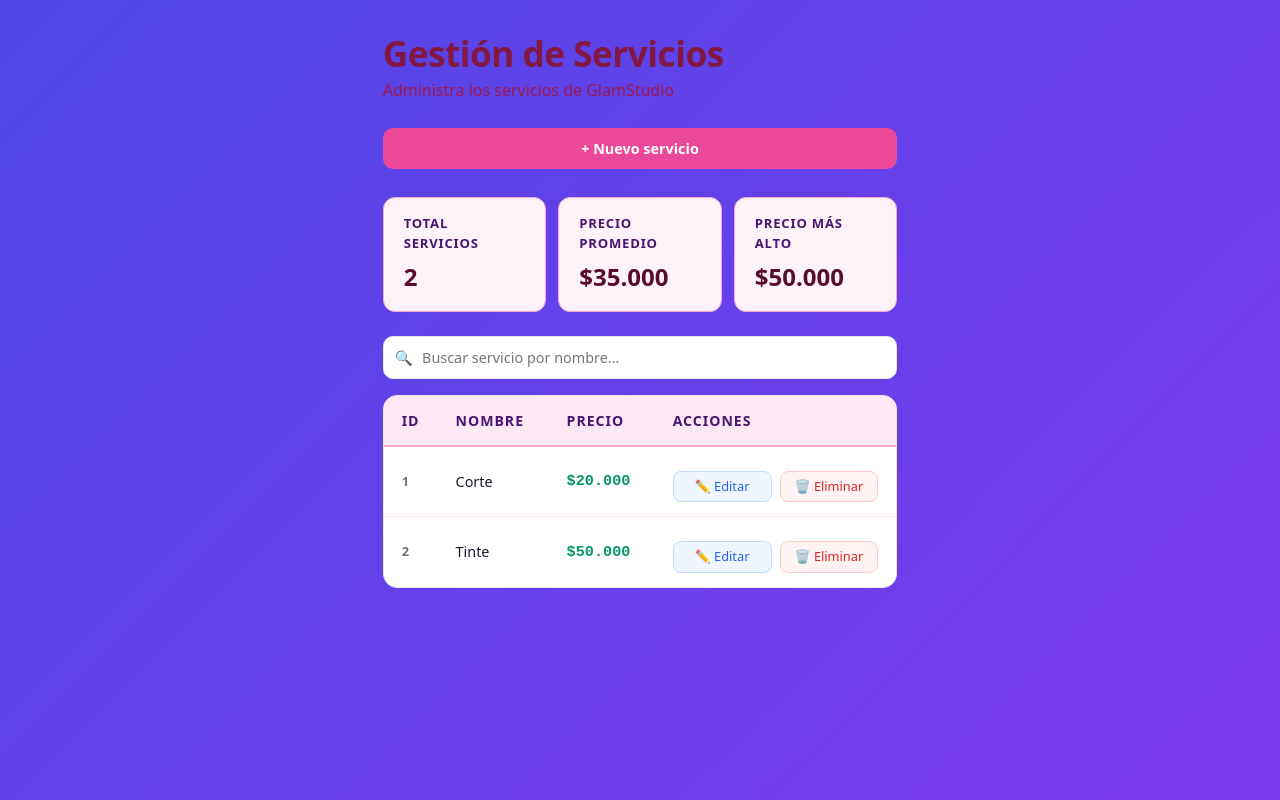
GestionServicios › filtra servicios por búsqueda
Expected: the text "Corte" is shown, [438,446,549,517]
Type "Tinte" into the field with placeholder "Buscar servicio por nombre..." at (640, 358), box [383,336,897,379]
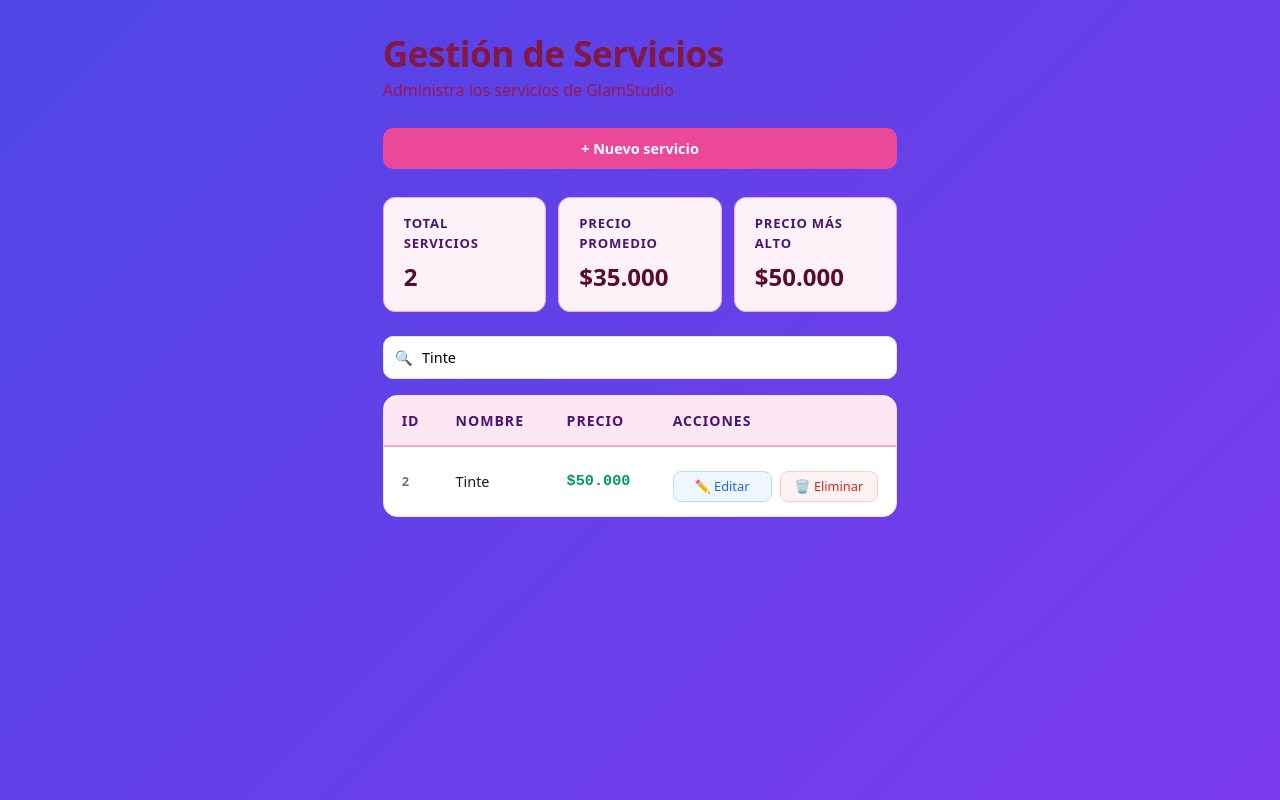
Expected: the text "Tinte" is shown, [438,446,549,516]
Now the text "Corte" is gone
